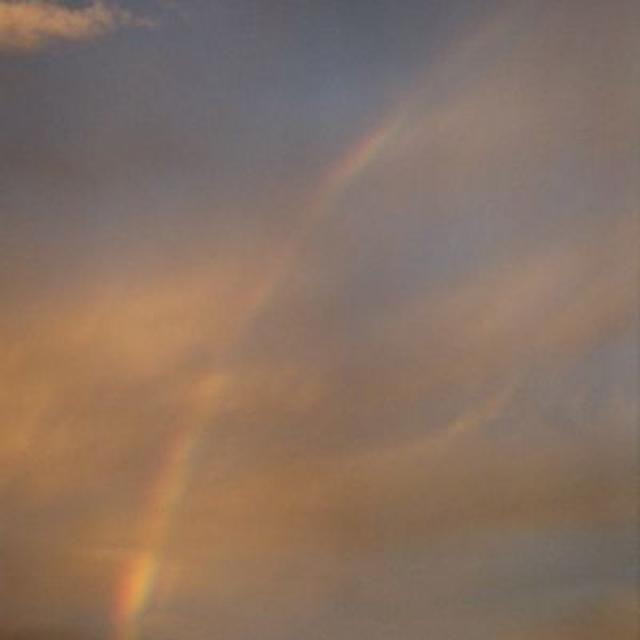As: (1, 49, 640, 590)
